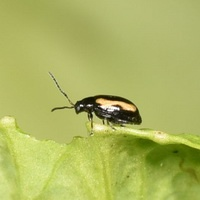insect: (49, 72, 141, 134)
